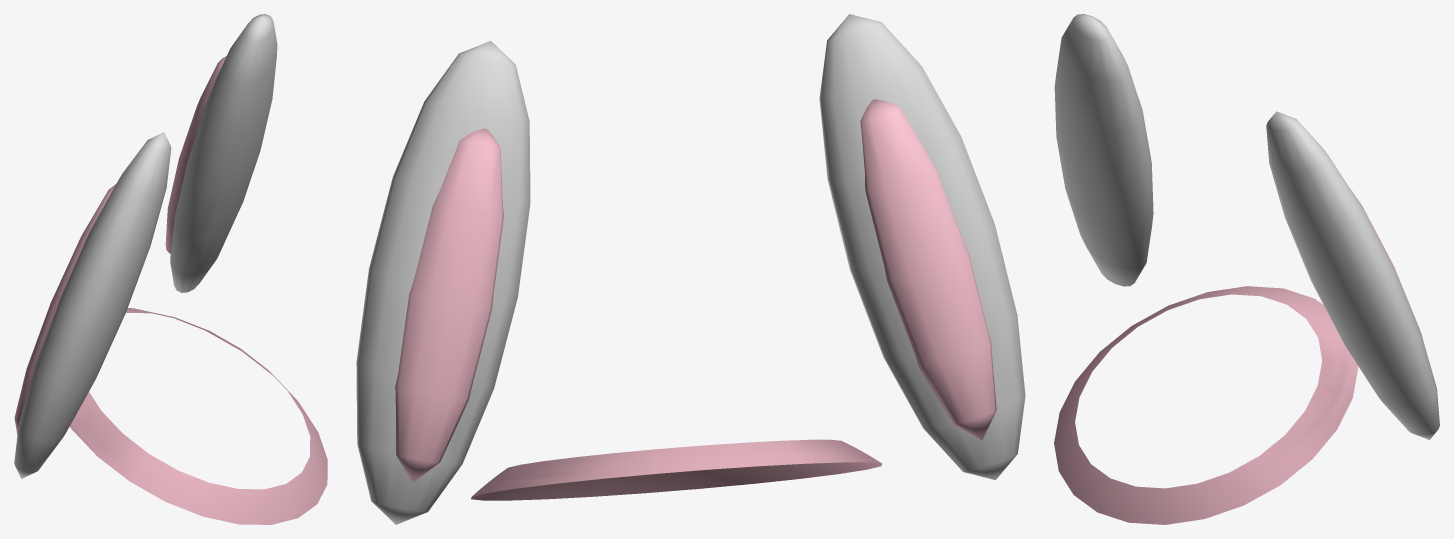
Rendered from bunny_head.fbx.
3 renders of one model, left to right at view 1: azimuth 30°, elevation 25°; view 2: azimuth 150°, elevation 25°; view 3: azimuth 270°, elevation 25°, orthographic. The views are drawn at different scales.
Parts seen in each view (by area): view 1: bunny_head; view 2: bunny_head; view 3: bunny_head.
Boxes of the visible parts, box(x1,y1,x2,y2) form: bunny_head: box(14, 14, 327, 524); bunny_head: box(356, 14, 1025, 524); bunny_head: box(1054, 14, 1439, 524).
Bounding box in the file's own units: 0.9928 × 1.05 × 0.8789.
